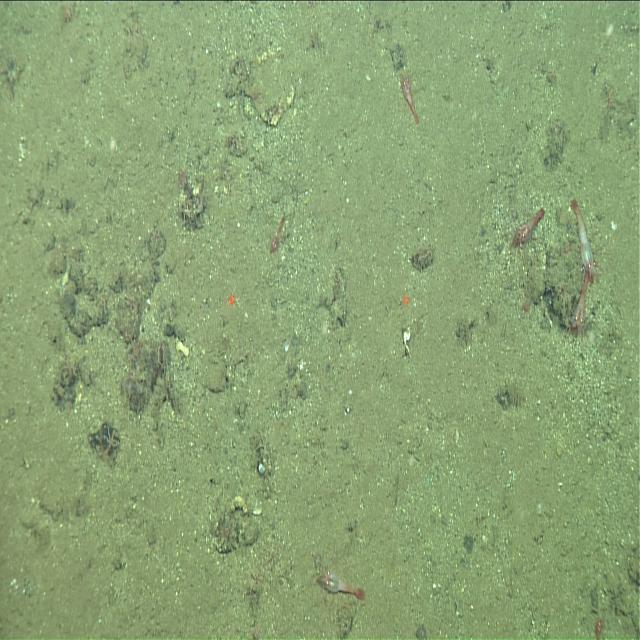Brittle Star: (102, 423, 117, 458)
Not Brittle Star: (310, 552, 370, 607), (568, 195, 601, 288), (509, 200, 548, 256), (396, 63, 421, 127), (266, 210, 289, 260)
